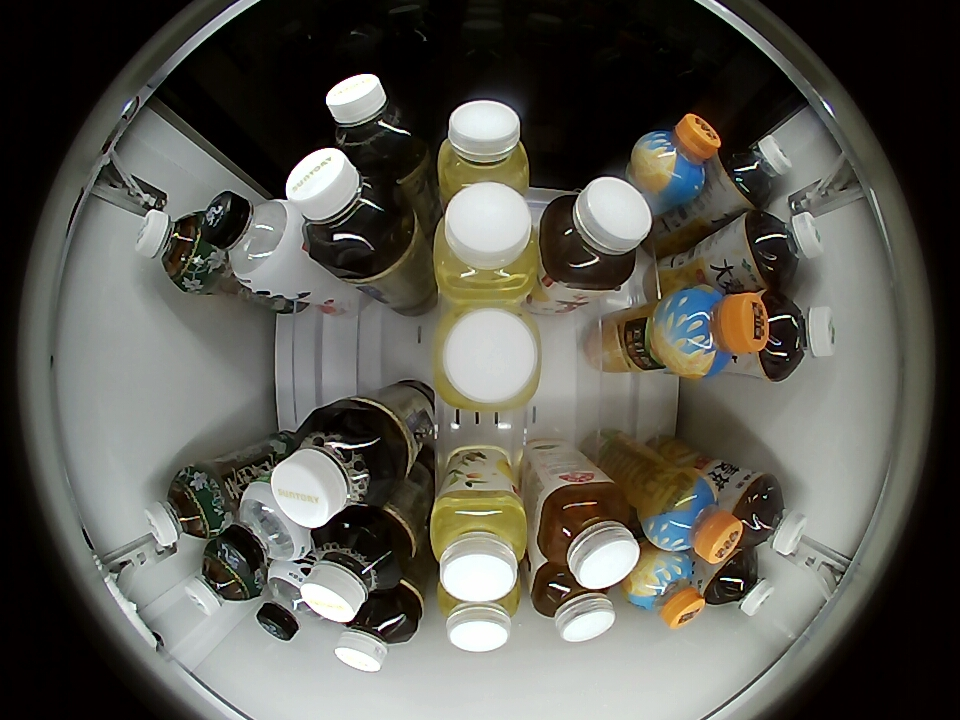chapai: (538, 178, 652, 292), (535, 479, 639, 588), (530, 562, 615, 642)
chapai2: (433, 182, 537, 303), (434, 305, 542, 411), (430, 490, 528, 603), (436, 100, 530, 201), (438, 579, 523, 652)
damaicha: (759, 293, 838, 381), (732, 474, 808, 556), (746, 209, 824, 287), (719, 135, 793, 207), (705, 551, 774, 616)
guolicheng: (658, 285, 769, 379), (643, 471, 743, 564), (632, 113, 721, 201), (623, 550, 705, 628)
moliqingcha: (135, 206, 216, 290), (144, 468, 225, 548), (185, 543, 257, 615)
wulongcha: (271, 409, 398, 528), (286, 148, 404, 267), (302, 518, 405, 622), (326, 74, 421, 167), (336, 596, 418, 673)
yuanqishui: (202, 191, 303, 290), (223, 482, 314, 567), (256, 562, 327, 640)
